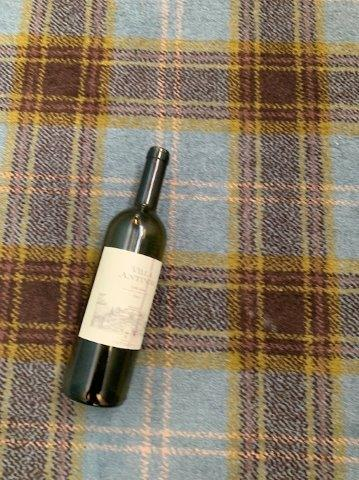botolkaca: (60, 147, 168, 408)
